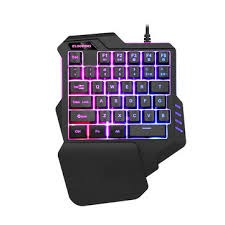keyboard: (61, 47, 173, 141)
